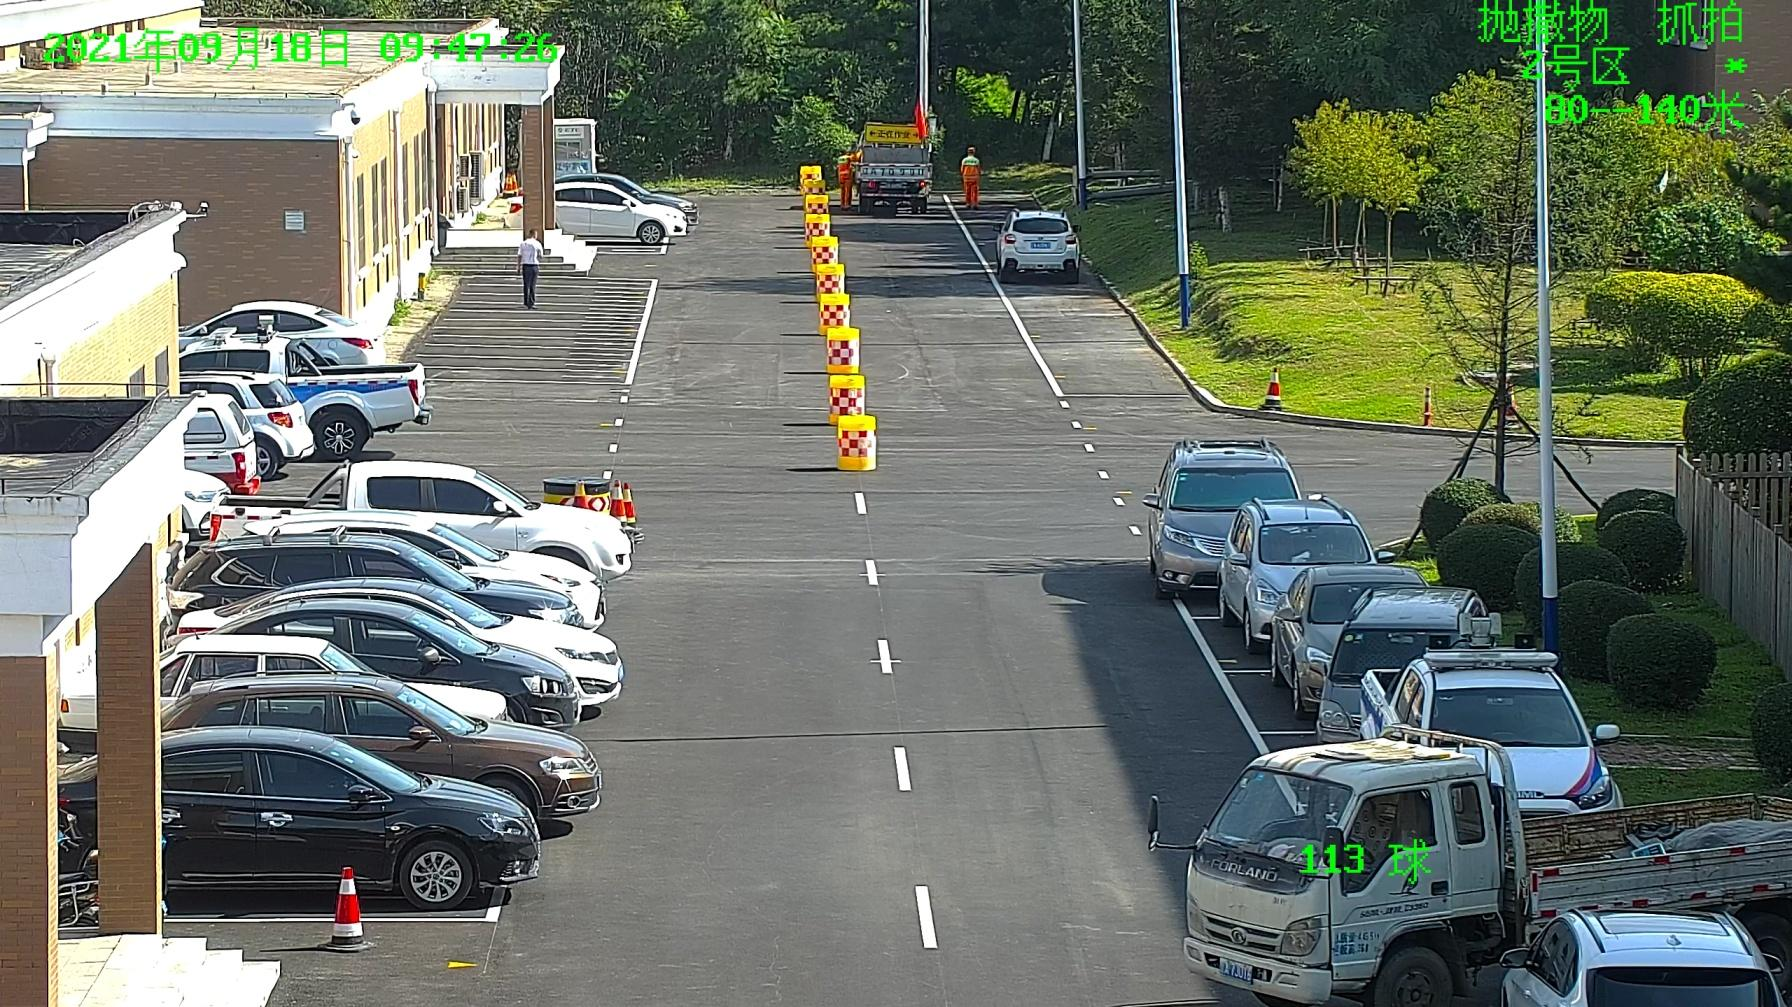cone_barrel: (834, 417, 873, 470), (830, 372, 864, 417), (826, 326, 857, 368), (818, 294, 847, 330), (816, 266, 843, 302), (812, 238, 838, 267), (807, 214, 830, 244), (805, 195, 828, 222), (800, 167, 822, 196)
